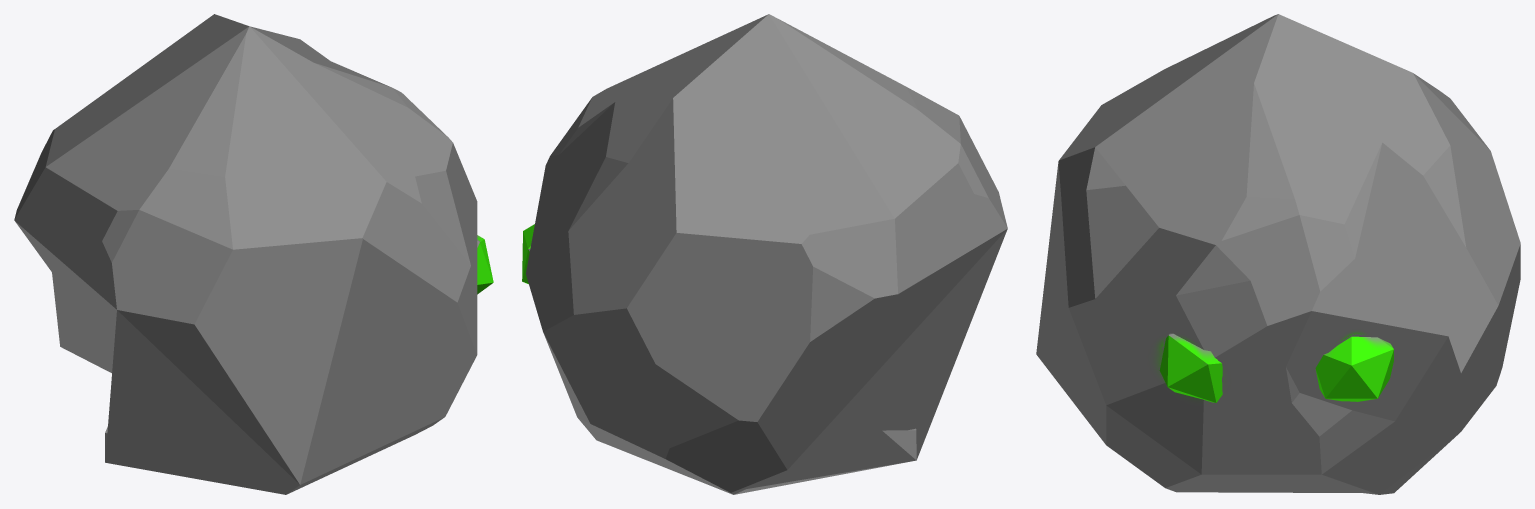
The model's file is head 1.fbx.
3 views of the same model, side by side, from view 1: azimuth 30°, elevation 25°; view 2: azimuth 150°, elevation 25°; view 3: azimuth 270°, elevation 25° (orthographic). The views are drawn at different scales.
Visible parts, largest first — view 1: Icosphere.007; view 2: Icosphere.007; view 3: Icosphere.007.
Boxes of the visible parts, left/top/right/bottom form: Icosphere.007: left=14, top=14, right=493, bottom=494; Icosphere.007: left=522, top=14, right=1007, bottom=494; Icosphere.007: left=1036, top=14, right=1520, bottom=494.
Size of the model in its own units: 164 by 163 by 170.
